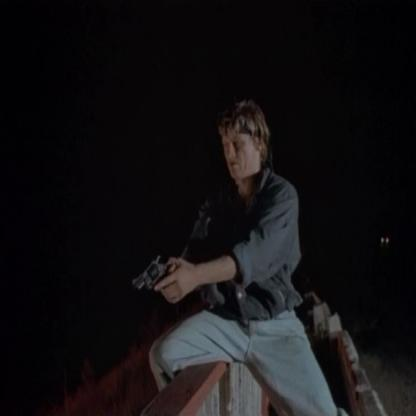gun: (115, 245, 182, 305)
